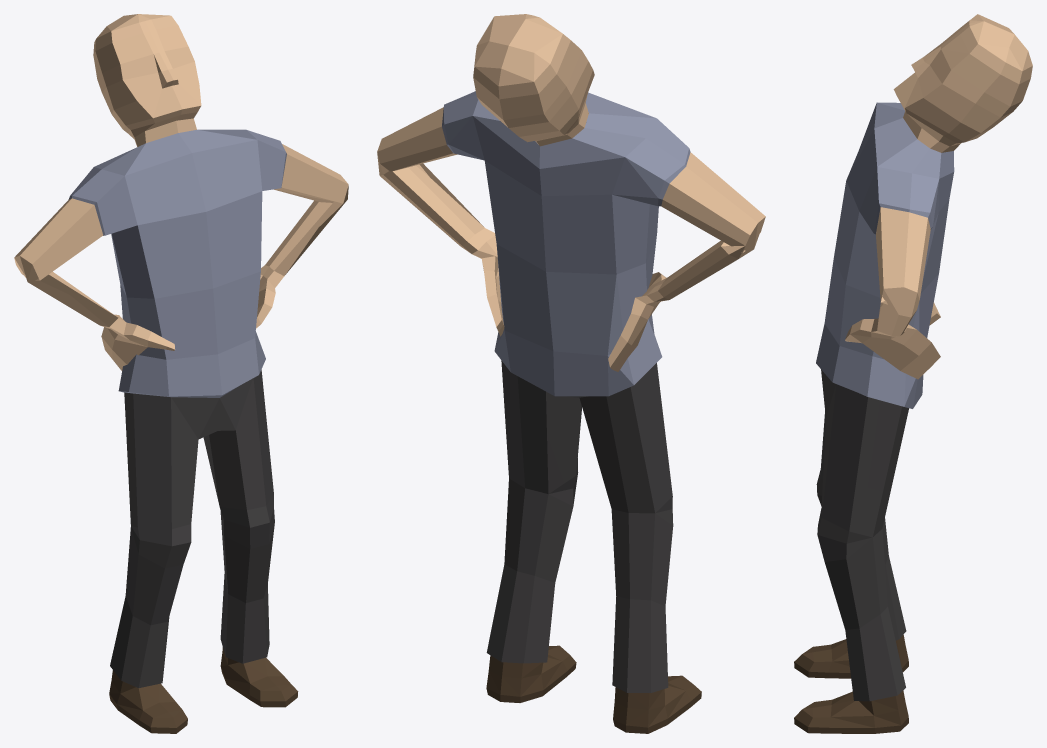
File: Male_LookingUp.glb
3 views of the same model, side by side, from view 1: azimuth 30°, elevation 25°; view 2: azimuth 150°, elevation 25°; view 3: azimuth 270°, elevation 25° (orthographic). The views are drawn at different scales.
Parts seen in each view (by area): view 1: Looking_Up; view 2: Looking_Up; view 3: Looking_Up.
Boxes of the visible parts, left/top/right/bottom form: Looking_Up: left=14, top=14, right=348, bottom=733; Looking_Up: left=377, top=14, right=765, bottom=733; Looking_Up: left=794, top=14, right=1032, bottom=733.
Bounding box in the file's own units: 1.99 × 3.69 × 1.18.
